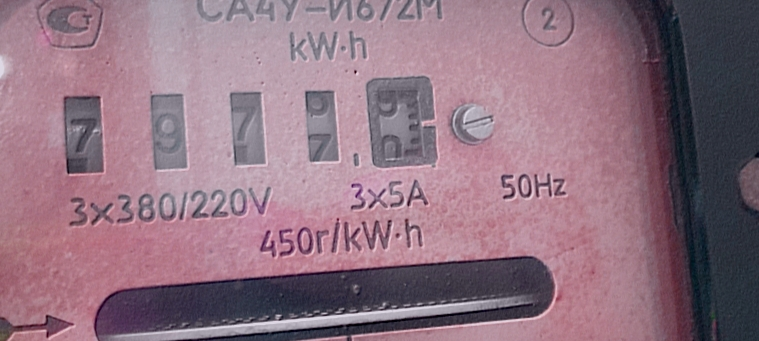0: (376, 131, 401, 162)
7: (63, 113, 100, 160), (302, 124, 336, 168), (228, 102, 260, 146)
9: (149, 110, 183, 159), (371, 87, 403, 122)
screen: (44, 52, 455, 213)
